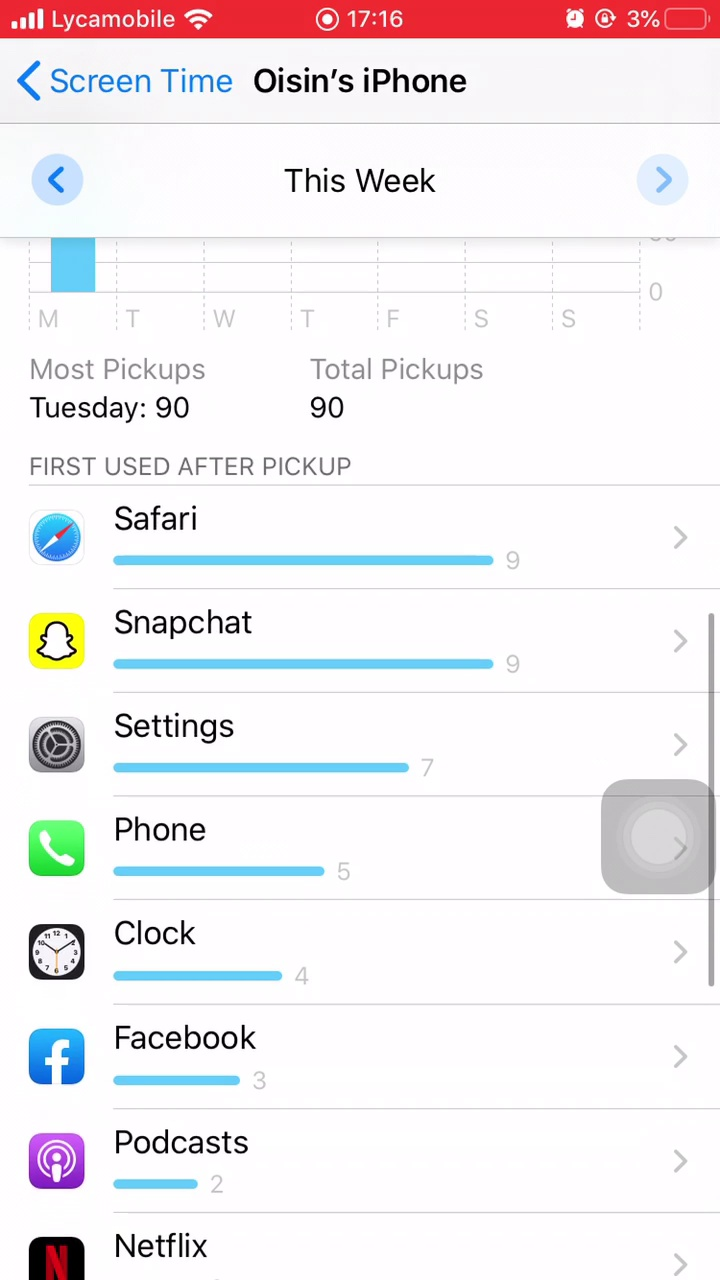pick_app: (17, 600, 556, 688), (23, 499, 553, 582), (20, 707, 471, 782), (21, 810, 384, 888), (21, 916, 336, 997), (25, 1017, 321, 1100), (23, 1122, 300, 1196)
pick_over: (25, 347, 551, 432)
week: (273, 160, 458, 203)
